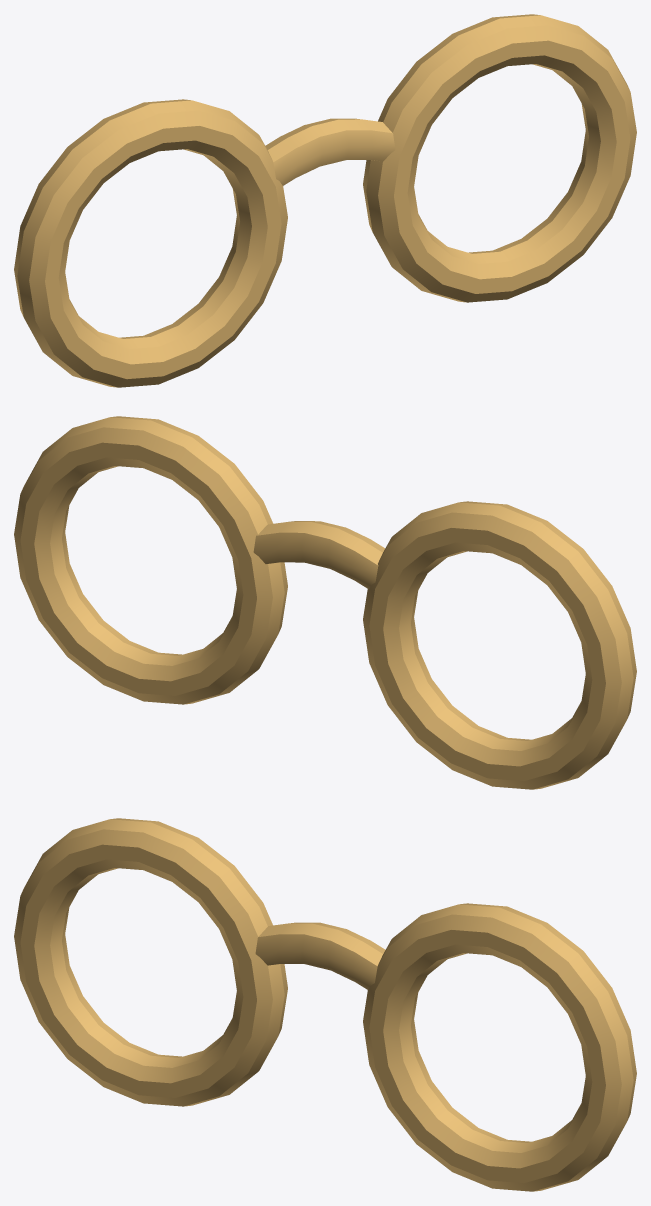
File: yuvarlak-gozluk.fbx
The picture shows the model from 3 angles, top to bottom: view 1: azimuth 30°, elevation 25°; view 2: azimuth 150°, elevation 25°; view 3: azimuth 330°, elevation 25°; orthographic projection.
Parts seen in each view (by area): view 1: yuvarlak_gozluk; view 2: yuvarlak_gozluk; view 3: yuvarlak_gozluk.
Part boxes in pixels (x1=…): yuvarlak_gozluk: x1=14, y1=14, x2=636, y2=387; yuvarlak_gozluk: x1=14, y1=416, x2=636, y2=789; yuvarlak_gozluk: x1=14, y1=818, x2=636, y2=1191.
Bounding box in the file's own units: 2.24 × 0.9719 × 0.1541.
